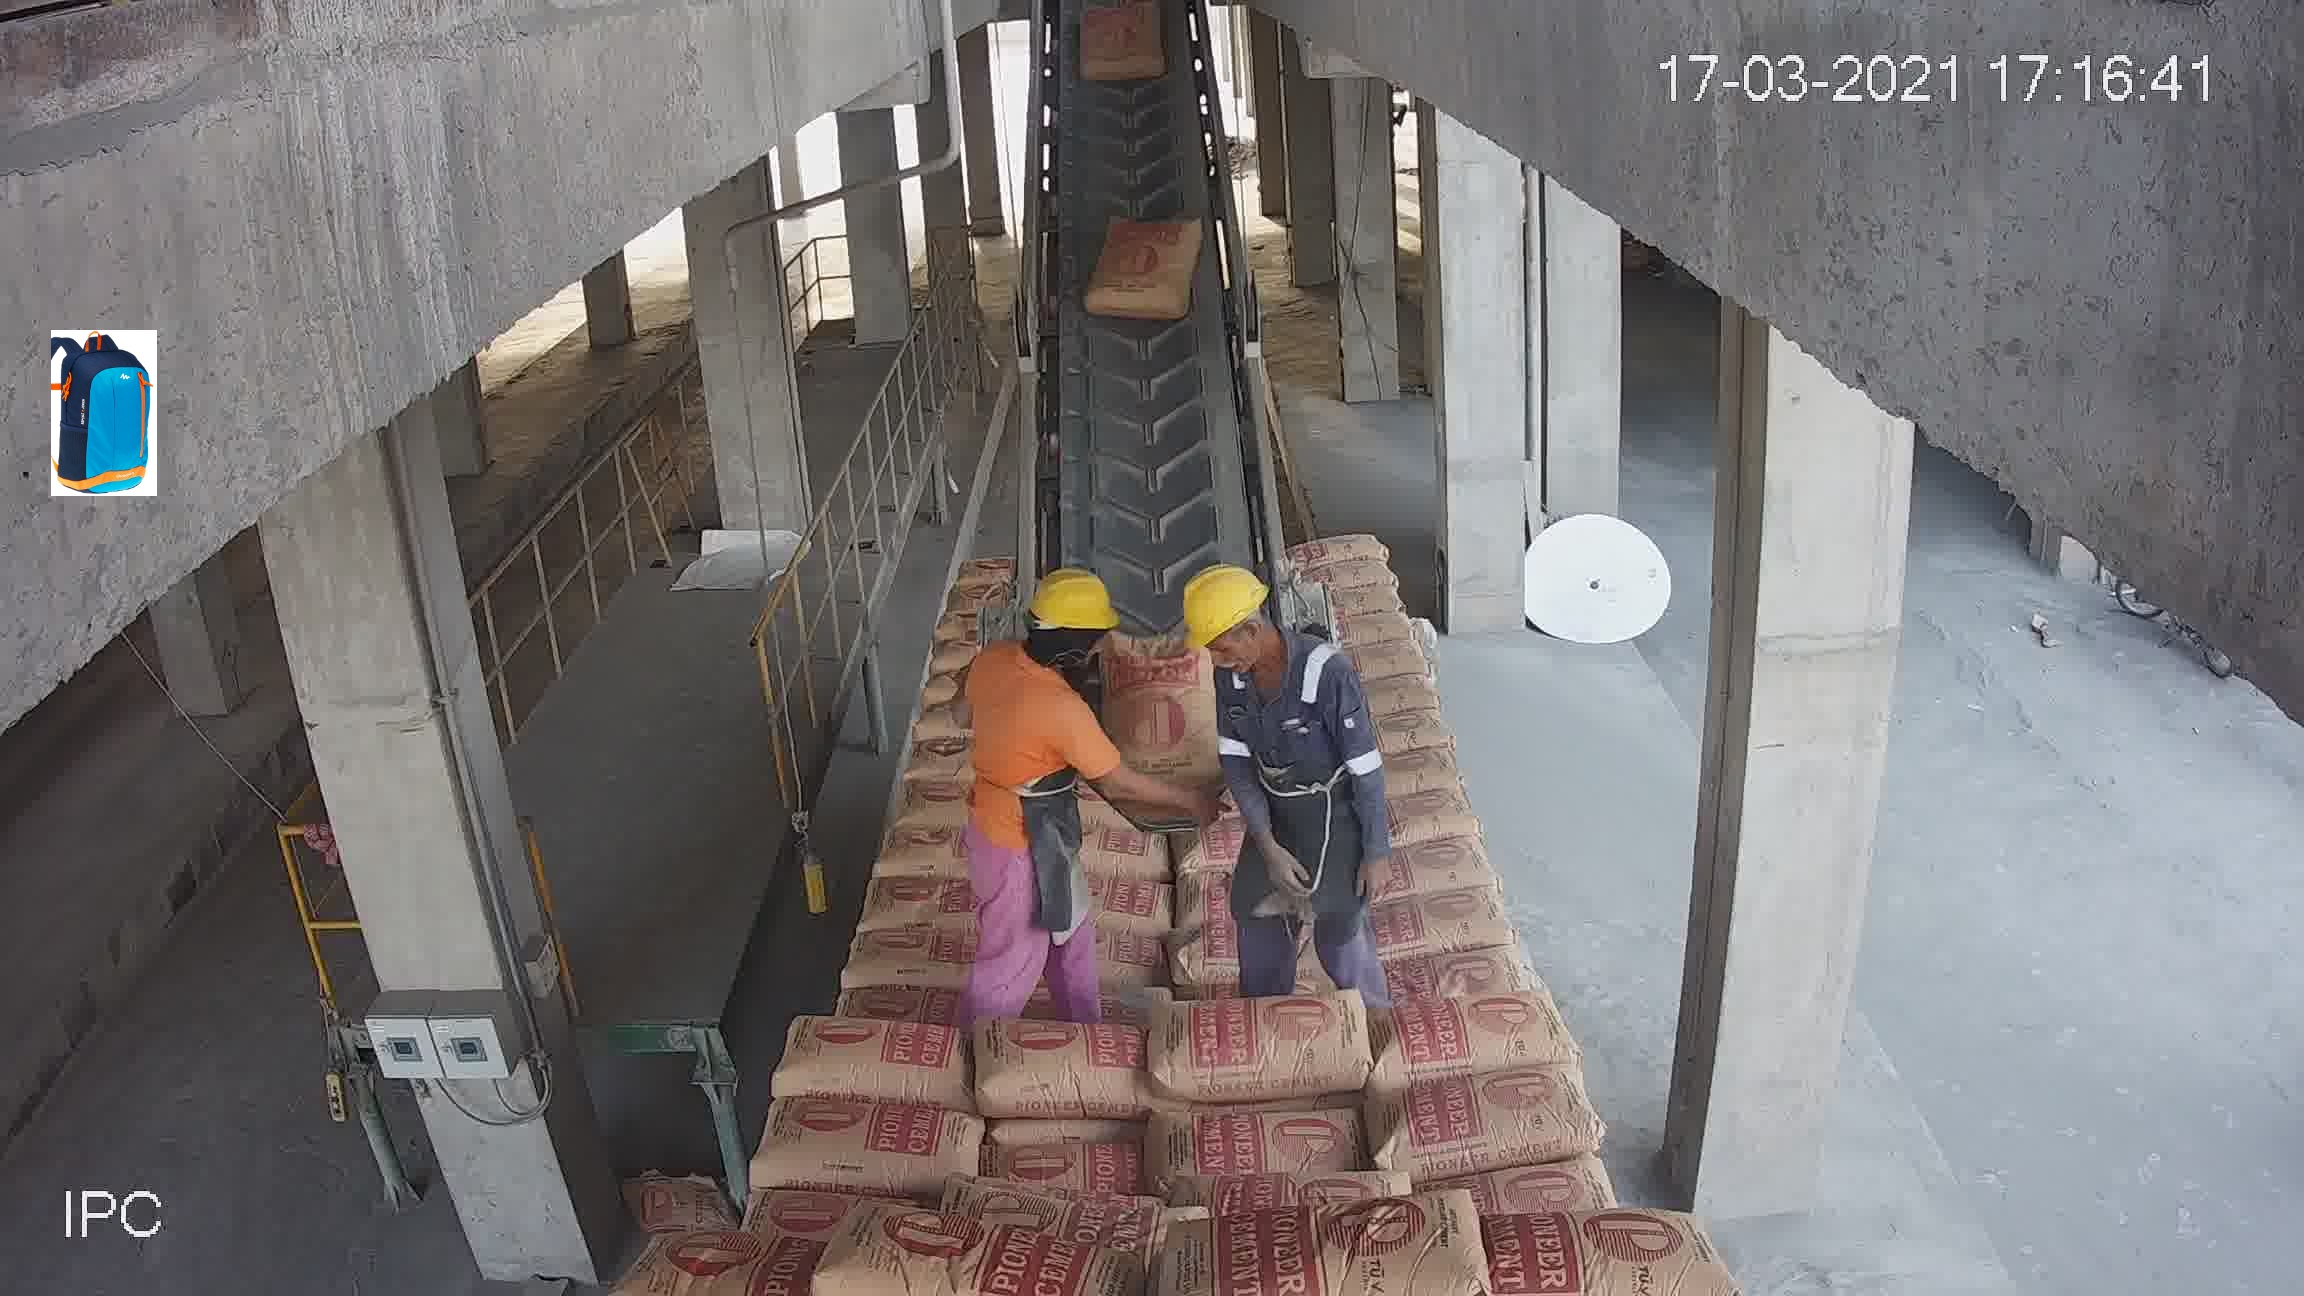bag: (1100, 611, 1211, 758), (1089, 218, 1204, 315)
bag_h: (1155, 1182, 1480, 1294), (1443, 1203, 1711, 1296), (794, 1218, 1119, 1294), (1378, 1079, 1589, 1193), (747, 1100, 994, 1196), (1351, 999, 1579, 1095), (972, 1013, 1160, 1128), (1155, 1108, 1381, 1203), (1155, 999, 1351, 1105), (769, 1022, 975, 1105), (1366, 878, 1532, 975), (616, 1223, 824, 1290), (828, 905, 987, 991), (809, 957, 973, 1035), (1369, 946, 1537, 1019), (1375, 834, 1514, 905), (847, 866, 976, 942), (991, 1143, 1158, 1199), (1073, 924, 1195, 995), (1372, 790, 1502, 855), (1375, 736, 1476, 805), (1362, 665, 1457, 726), (1366, 707, 1467, 763), (880, 824, 970, 885), (1288, 533, 1396, 571), (1302, 557, 1404, 597)
belt: (1014, 43, 1290, 771)
